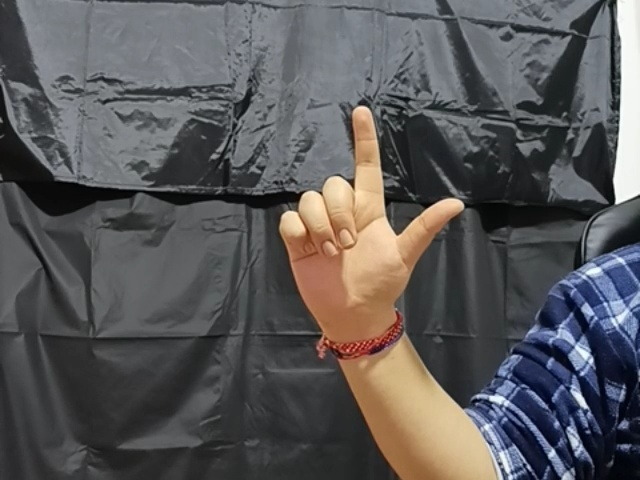L: (275, 104, 465, 334)
